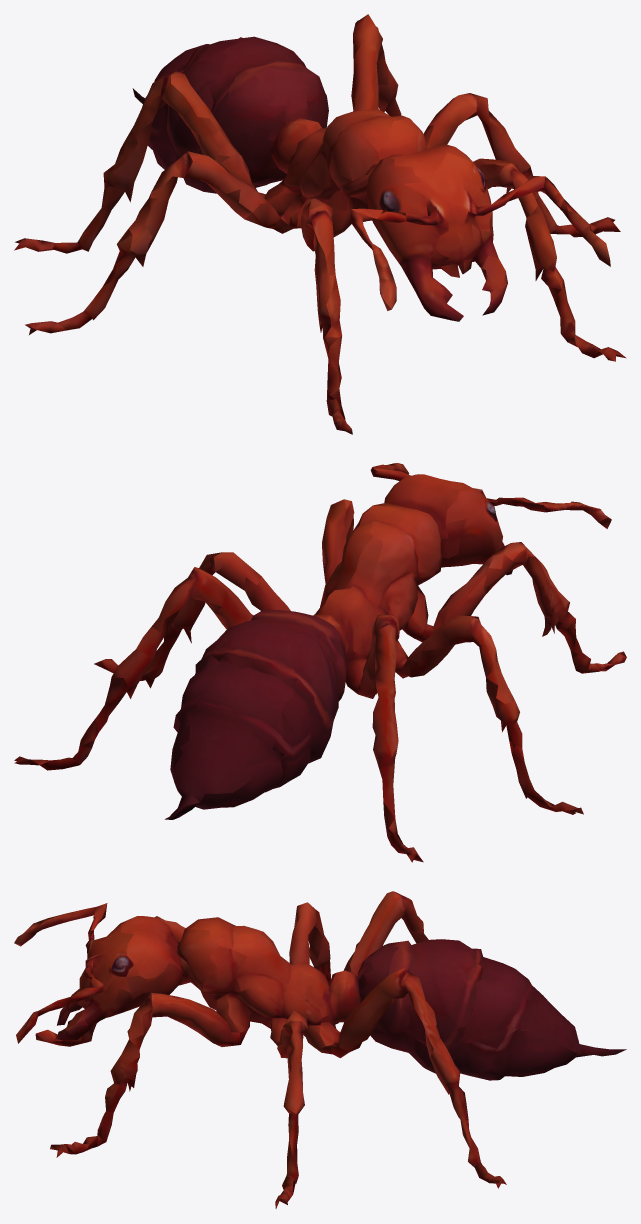
Rendered from formiga_fogo.glb.
3 renders of one model, top to bottom at view 1: azimuth 30°, elevation 25°; view 2: azimuth 150°, elevation 25°; view 3: azimuth 270°, elevation 25°, orthographic. The views are drawn at different scales.
Parts seen in each view (by area): view 1: geometry_0; view 2: geometry_0; view 3: geometry_0.
Boxes of the visible parts, x1,y1,x2,y2 form: geometry_0: [14, 14, 626, 434]; geometry_0: [14, 463, 626, 862]; geometry_0: [14, 891, 626, 1208].
Bounding box in the file's own units: 0.847 × 0.3032 × 0.9727.
Materials: 1 (1 with a texture image).
